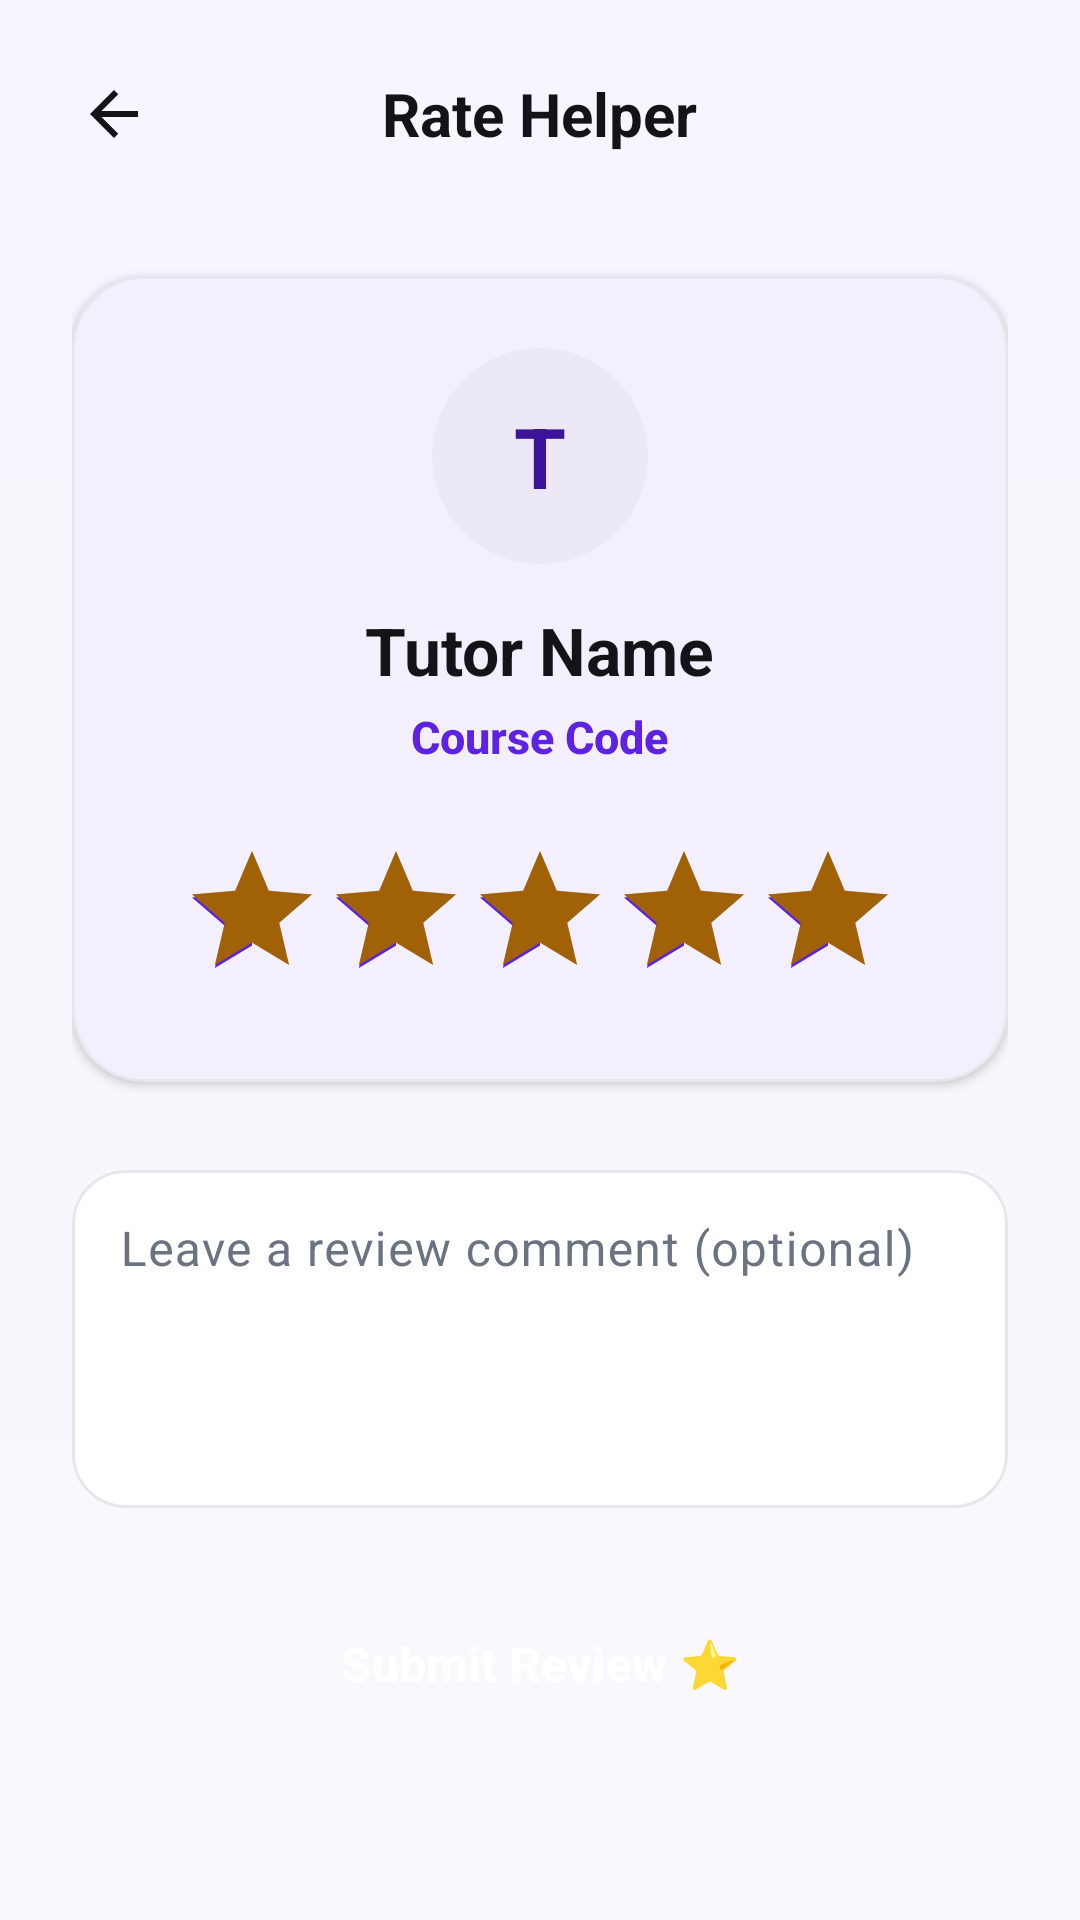

Named icons in this screenshot (1080w x 1920h) and their bounding boxes, (x1, y1, x2, y2):
Back: (90, 90, 138, 138)
